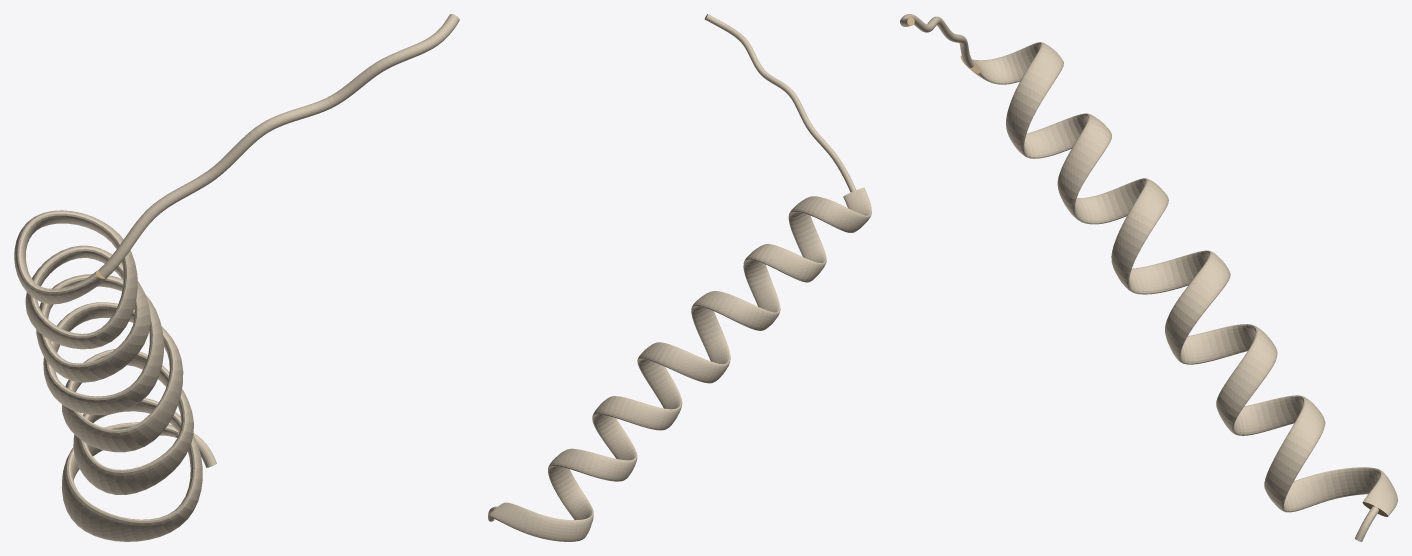
Rendered from SheetSheetrCoil.dae.
3 views of the same model, side by side, from view 1: azimuth 30°, elevation 25°; view 2: azimuth 150°, elevation 25°; view 3: azimuth 270°, elevation 25° (orthographic). The views are drawn at different scales.
Visible parts, largest first — view 1: Shape_IndexedTriangleStripSet_029; view 2: Shape_IndexedTriangleStripSet_029; view 3: Shape_IndexedTriangleStripSet_029.
Boxes of the visible parts, <box> form: Shape_IndexedTriangleStripSet_029: <box>14,14,459,541</box>; Shape_IndexedTriangleStripSet_029: <box>488,14,871,541</box>; Shape_IndexedTriangleStripSet_029: <box>900,14,1397,541</box>.
Bounding box in the file's own units: 21.82 × 30.26 × 34.1.
